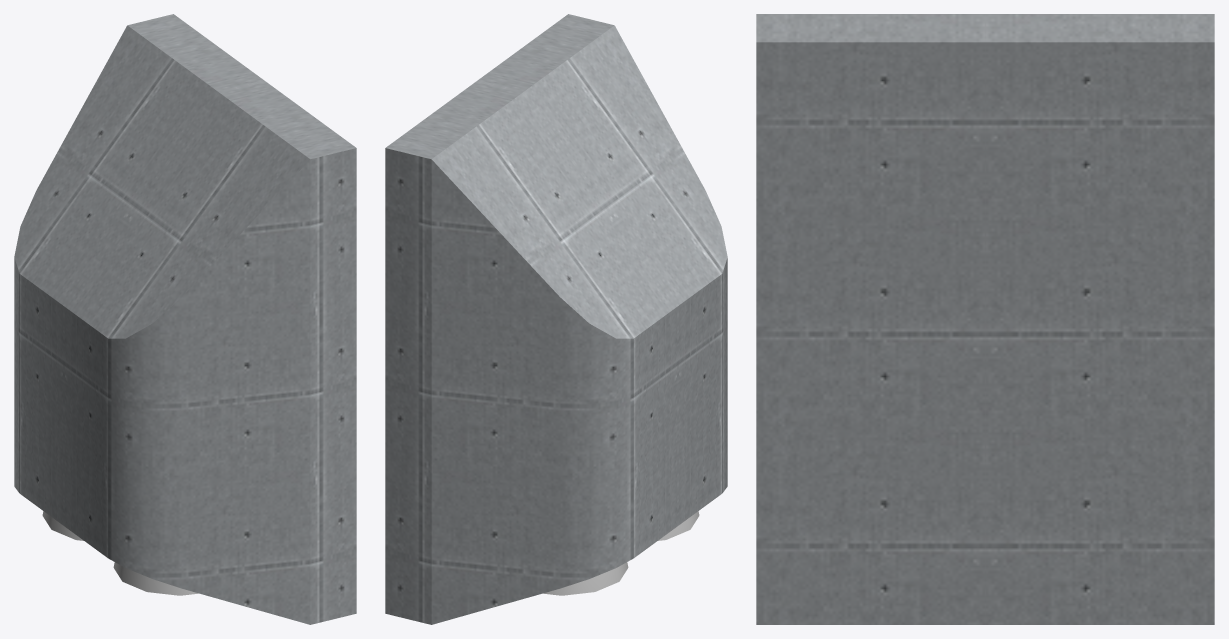
Rendered from radial-heavy-engine.fbx.
3 views of the same model, side by side, from view 1: azimuth 30°, elevation 25°; view 2: azimuth 150°, elevation 25°; view 3: azimuth 270°, elevation 25° (orthographic). The views are drawn at different scales.
Parts seen in each view (by area): view 1: radial-sabre, nozzle; view 2: radial-sabre, nozzle_002; view 3: radial-sabre.
Part boxes in pixels (left/top/right/bottom): radial-sabre: left=14, top=14, right=356, bottom=624; nozzle: left=113, top=562, right=198, bottom=595; radial-sabre: left=385, top=14, right=727, bottom=624; nozzle_002: left=543, top=562, right=628, bottom=595; radial-sabre: left=756, top=14, right=1214, bottom=624.
Size of what is drawn, in the model's own units: 0.8928 by 1.97 by 1.41.
Materials: 2 (1 with a texture image).
